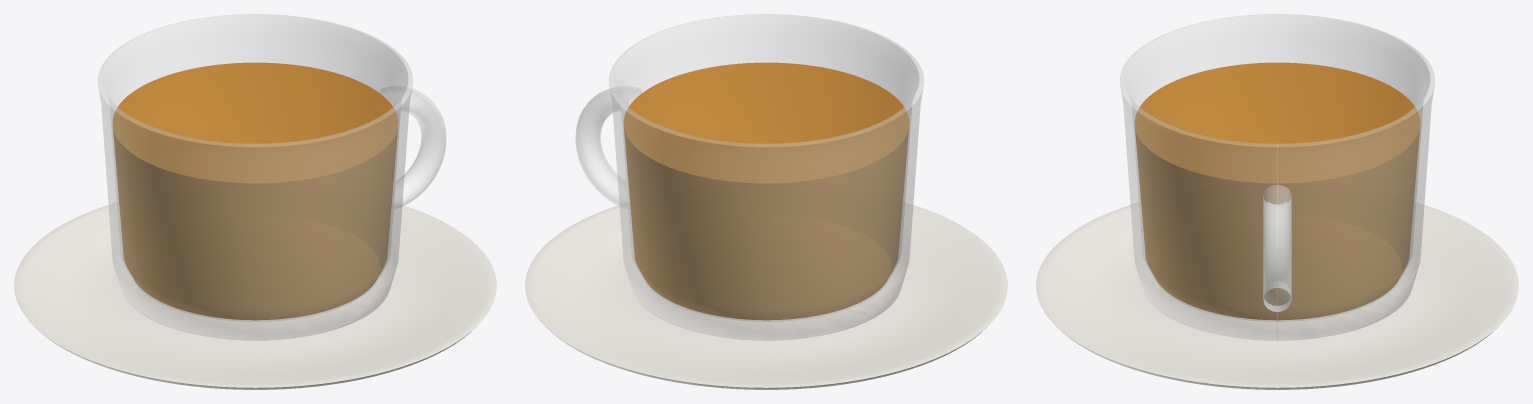
Rendered from mug.glb.
The picture shows the model from 3 angles, left to right: view 1: azimuth 30°, elevation 25°; view 2: azimuth 150°, elevation 25°; view 3: azimuth 270°, elevation 25°; orthographic projection.
Visible parts, largest first — view 1: mug-glass, mug-tea, mug-saucer, mug-handle; view 2: mug-glass, mug-tea, mug-saucer, mug-handle; view 3: mug-glass, mug-tea, mug-saucer, mug-handle.
Part boxes in pixels (x1=…): mug-glass: x1=98, y1=14, x2=412, y2=340; mug-tea: x1=112, y1=62, x2=398, y2=320; mug-saucer: x1=14, y1=202, x2=496, y2=389; mug-handle: x1=380, y1=86, x2=445, y2=208; mug-glass: x1=609, y1=14, x2=923, y2=340; mug-tea: x1=623, y1=62, x2=909, y2=320; mug-saucer: x1=525, y1=202, x2=1007, y2=389; mug-handle: x1=576, y1=86, x2=641, y2=208; mug-glass: x1=1120, y1=14, x2=1434, y2=340; mug-tea: x1=1134, y1=62, x2=1420, y2=320; mug-saucer: x1=1036, y1=184, x2=1518, y2=389; mug-handle: x1=1263, y1=185, x2=1291, y2=311.
Size of the model in its own units: 1.5 by 0.77 by 1.5.
